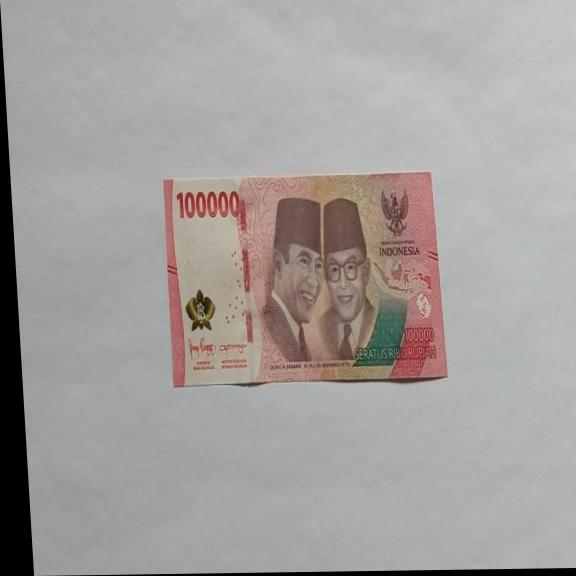Kertas: (160, 170, 449, 388), (174, 186, 242, 221)
